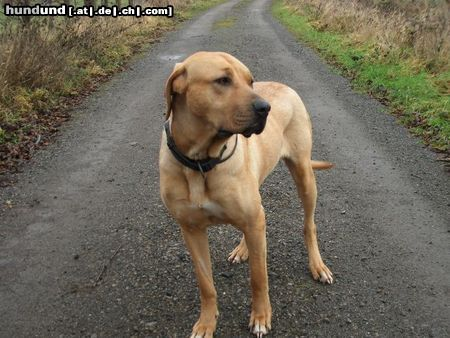tosa_inu: (158, 50, 333, 338)
